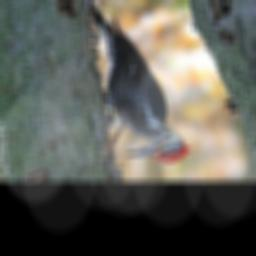Woodpecker: (87, 0, 193, 163)
